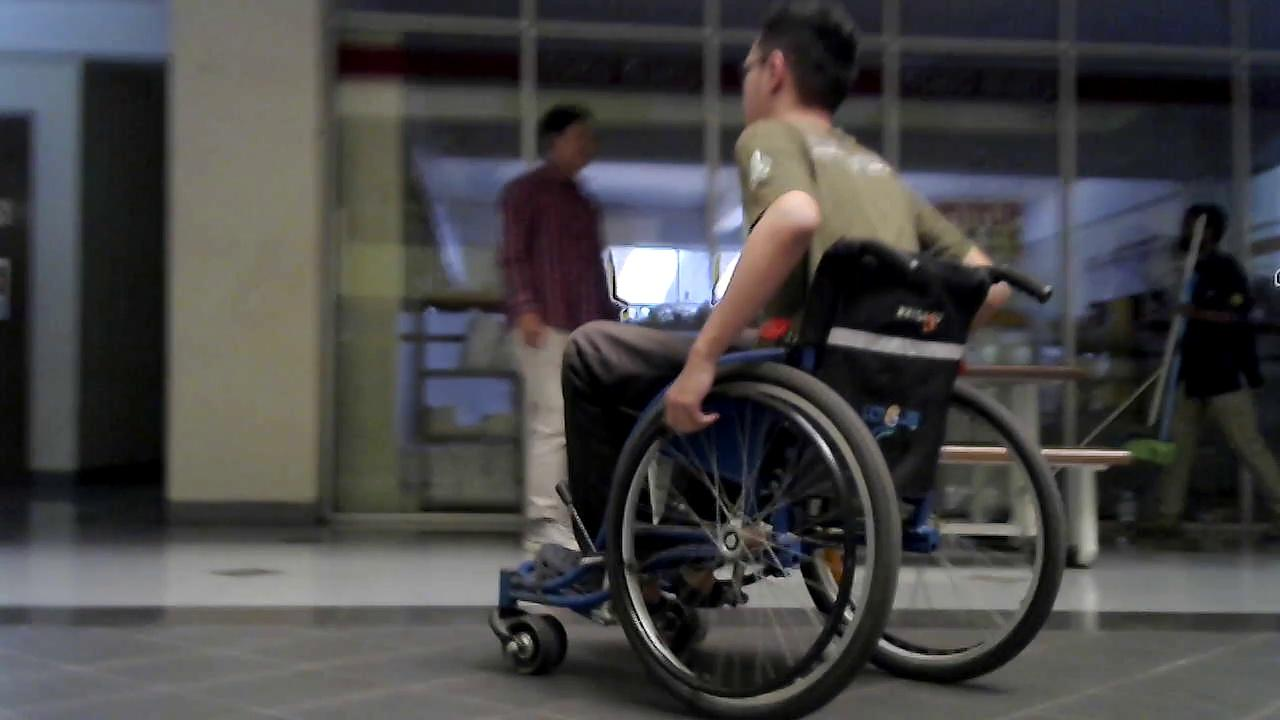person: (548, 5, 1048, 600), (496, 103, 624, 608), (1167, 203, 1279, 539)
wheelchair: (439, 223, 1077, 720)
